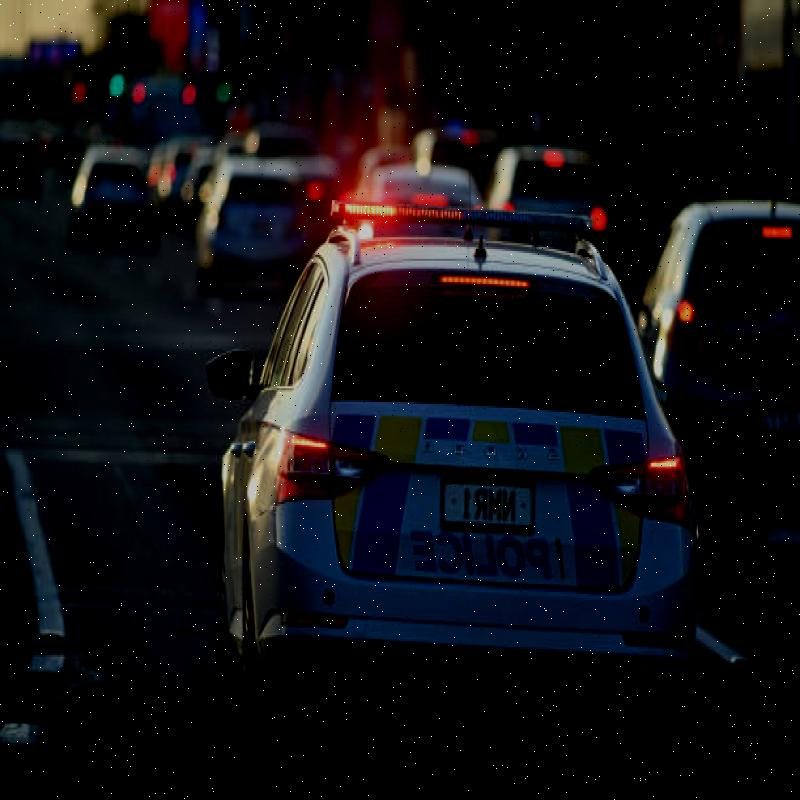AmbulanceSiren: (319, 191, 601, 264)
